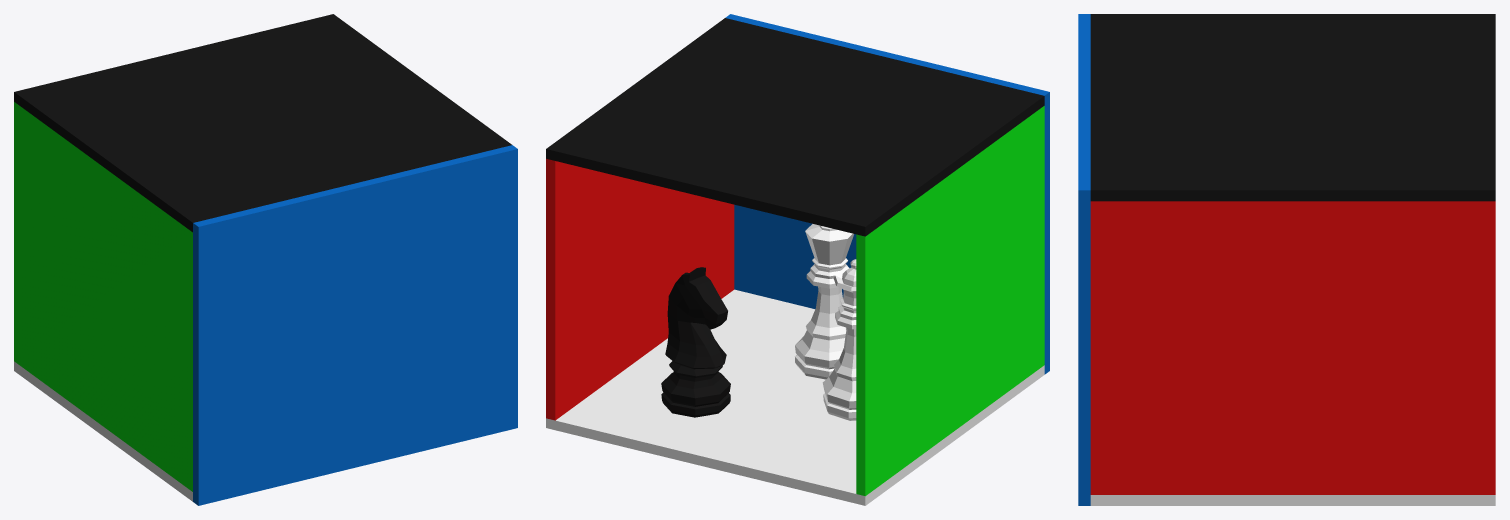
File: Holder.glb
The picture shows the model from 3 angles, left to right: view 1: azimuth 30°, elevation 25°; view 2: azimuth 150°, elevation 25°; view 3: azimuth 270°, elevation 25°; orthographic projection. The views are drawn at different scales.
Parts seen in each view (by area): view 1: Wall Back, Ceiling, Wall Right, Floor; view 2: Ceiling, Wall Right, Floor, Wall Left, Wall Back, Knight, king, queen; view 3: Wall Left, Ceiling, Wall Back, Floor.
Part boxes in pixels (box(x1,y1,x2,y2)): Wall Back: box(193, 145, 517, 505); Ceiling: box(14, 14, 511, 232); Wall Right: box(14, 102, 192, 491); Floor: box(14, 361, 192, 501); Ceiling: box(546, 18, 1044, 236); Wall Right: box(856, 106, 1044, 496); Floor: box(546, 289, 1044, 505); Wall Left: box(546, 158, 734, 420); Wall Back: box(725, 14, 1049, 374); Knight: box(661, 267, 730, 417); king: box(795, 224, 853, 379); queen: box(822, 259, 856, 420); Wall Left: box(1090, 201, 1495, 494); Ceiling: box(1090, 14, 1495, 201); Wall Back: box(1078, 14, 1090, 505); Floor: box(1090, 495, 1495, 505).
Bounding box in the file's own units: 5.15 × 4.3 × 5.15.
